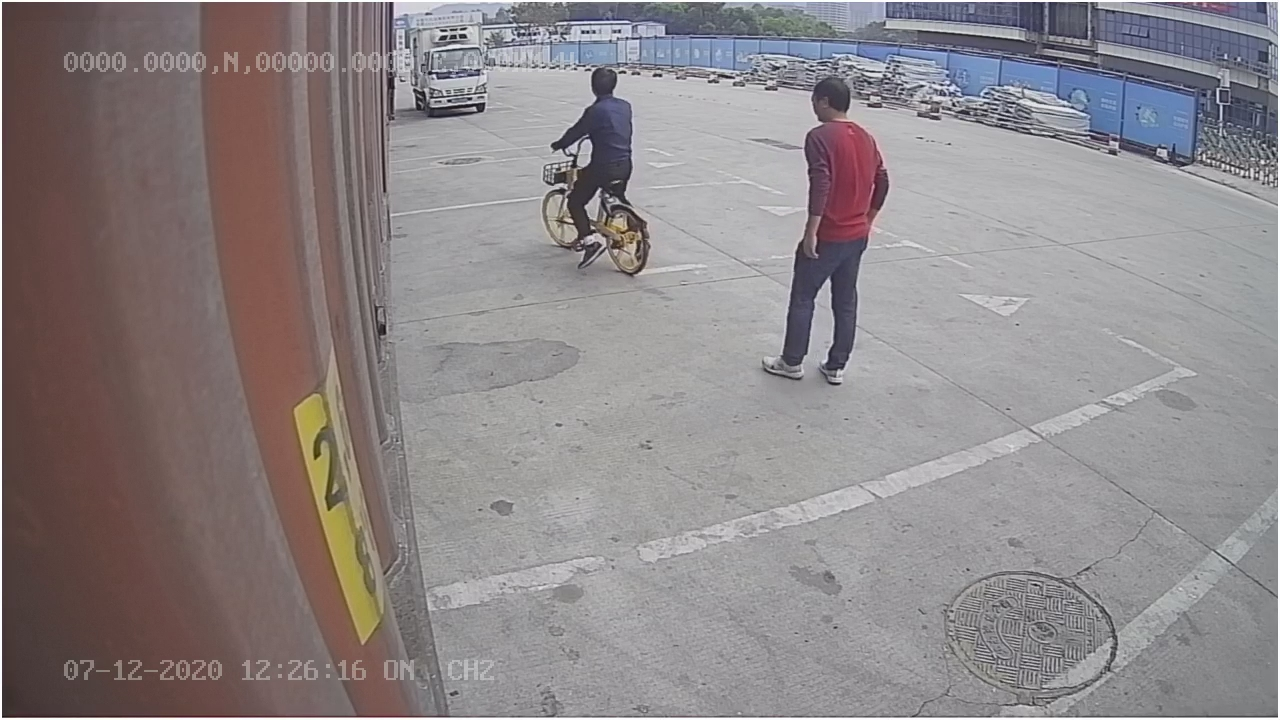person: (753, 75, 896, 389)
